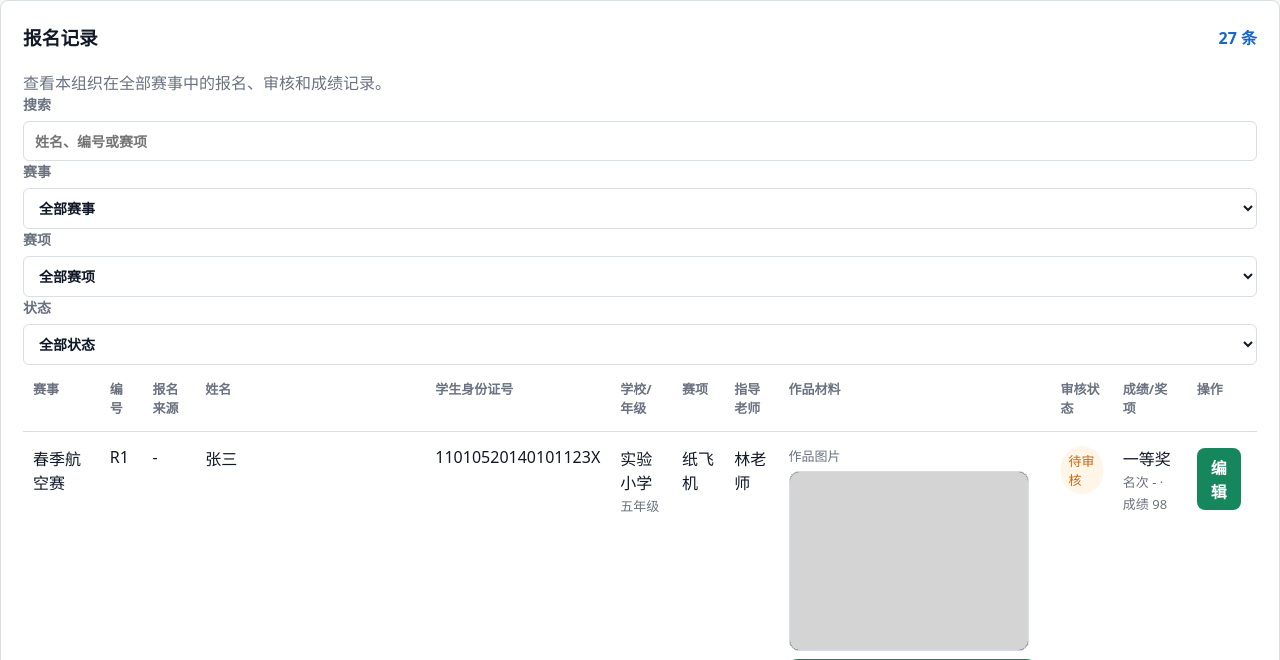
Test: OrganizationRegistrationRecordsPage › shows safe workspace error and retries it
Step 1. Click the button "编辑" → coordinates (1219, 479), box [1197,448,1241,510]
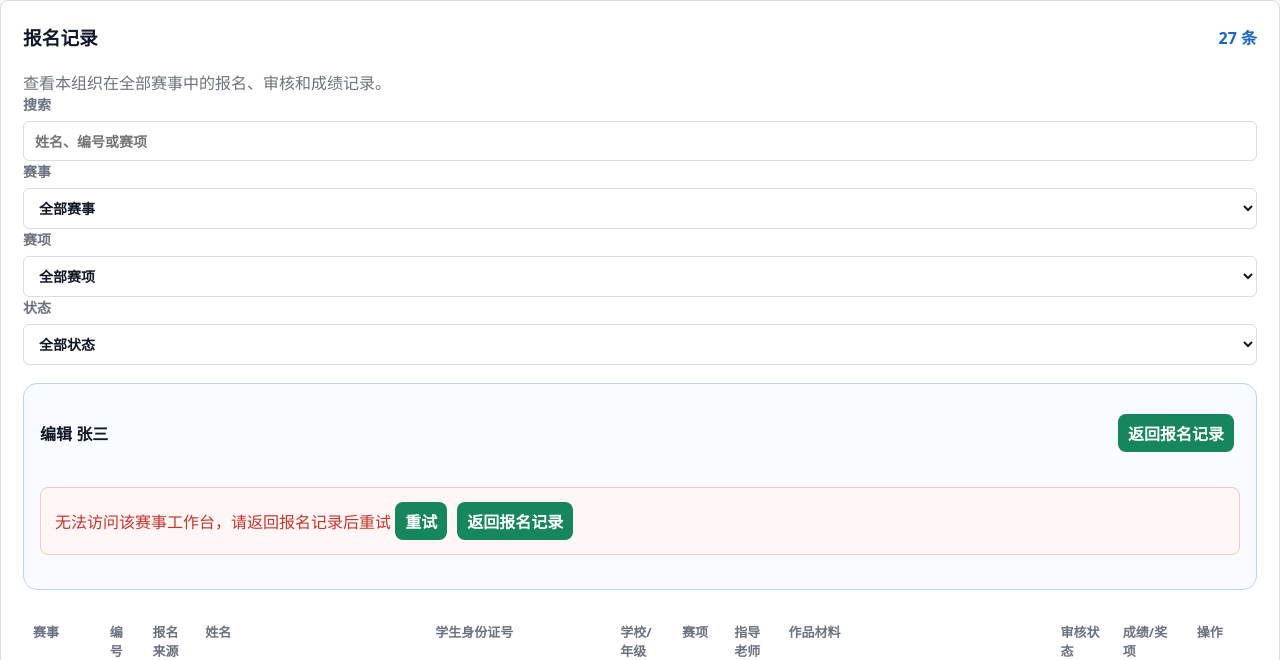
Check: the message "无法访问该赛事工作台，请返回报名记录后重试 重试 返回报名记录" is shown, box [40,486,1240,554]
Step 2. Click the button "重试" → coordinates (421, 520), box [395,502,447,540]
(page scrolled)
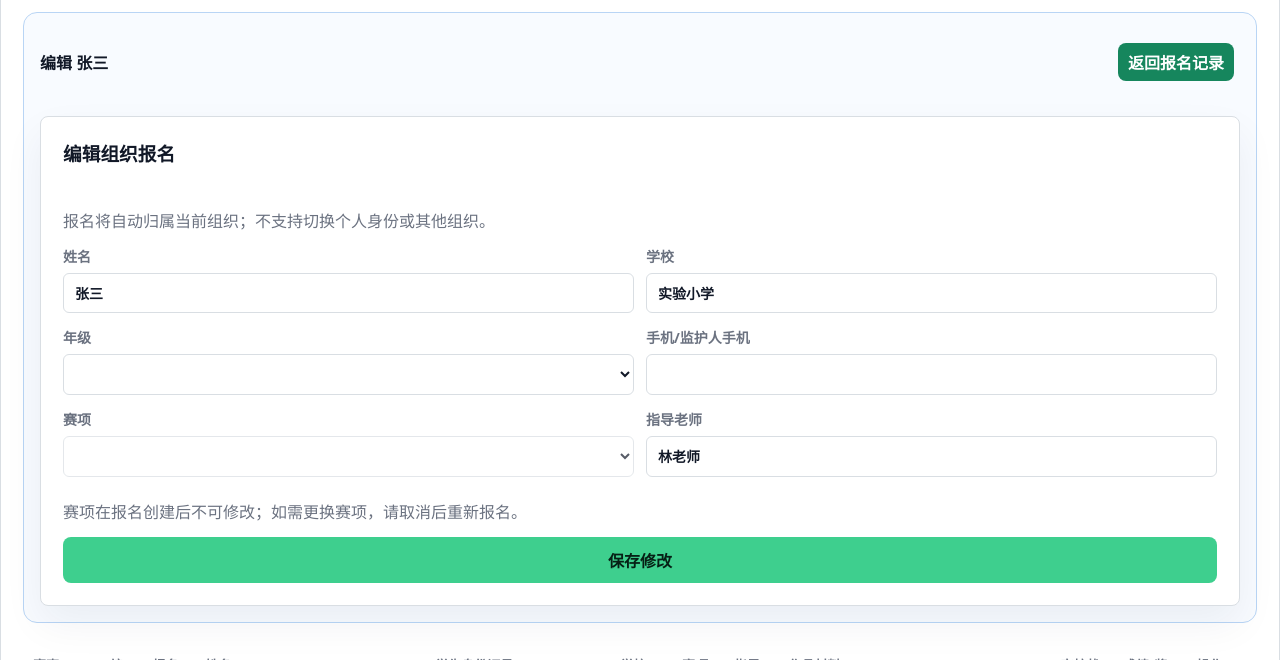
Check: the form with test id "organization-registration-editor" is shown
